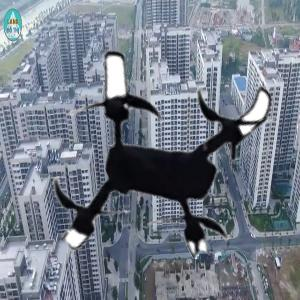drone: (30, 20, 288, 278)
